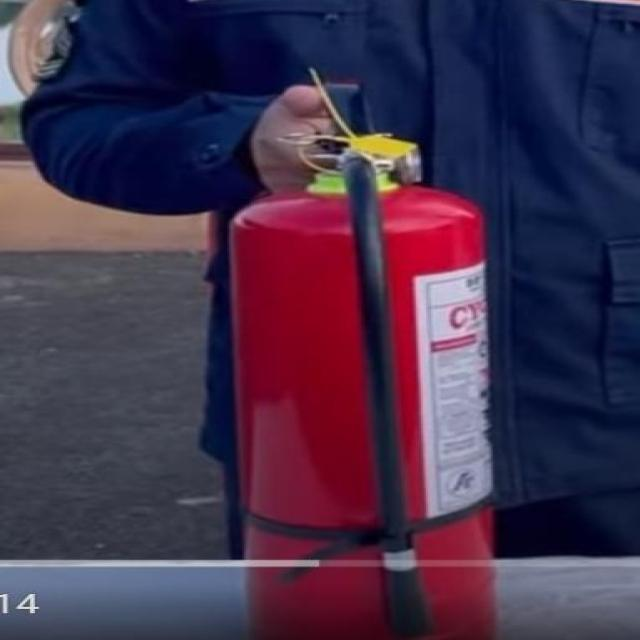fire_extinguisher: (214, 116, 518, 639)
